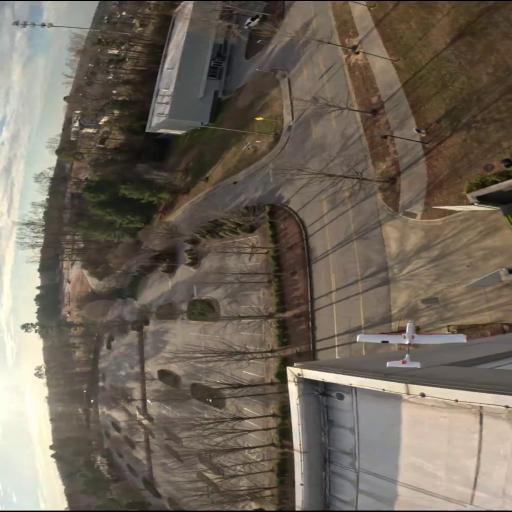uav: (351, 314, 470, 368)
